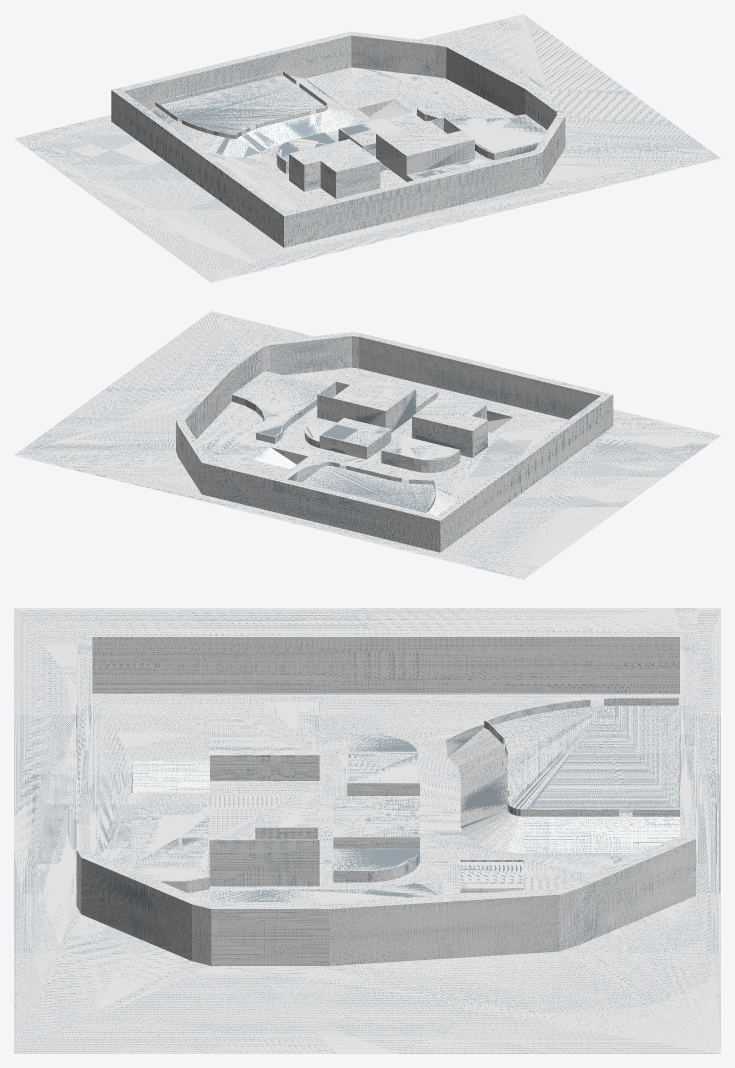
The model's file is Collider 1.fbx.
The picture shows the model from 3 angles, top to bottom: view 1: azimuth 30°, elevation 25°; view 2: azimuth 150°, elevation 25°; view 3: azimuth 270°, elevation 25°; orthographic projection. The views are drawn at different scales.
Visible parts, largest first — view 1: Model; view 2: Model; view 3: Model.
Part boxes in pixels (bbox=[...]): Model: bbox=[14, 14, 720, 282]; Model: bbox=[14, 311, 720, 579]; Model: bbox=[14, 608, 720, 1053].
Bounding box in the file's own units: 336 × 30 × 225.
